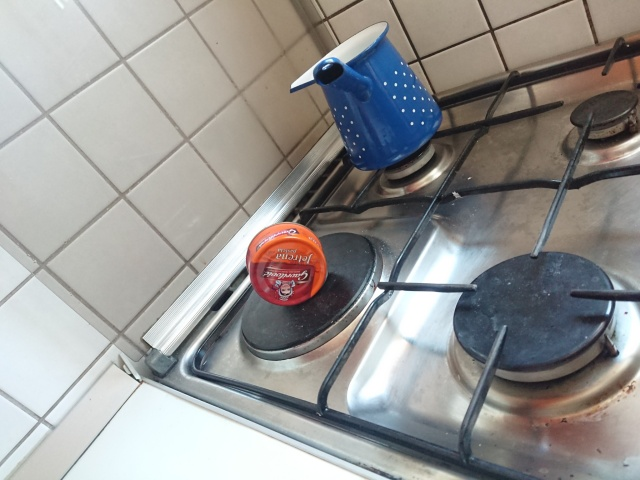Gavrilovic Pork Liver Pate 100g: (243, 219, 330, 309)
